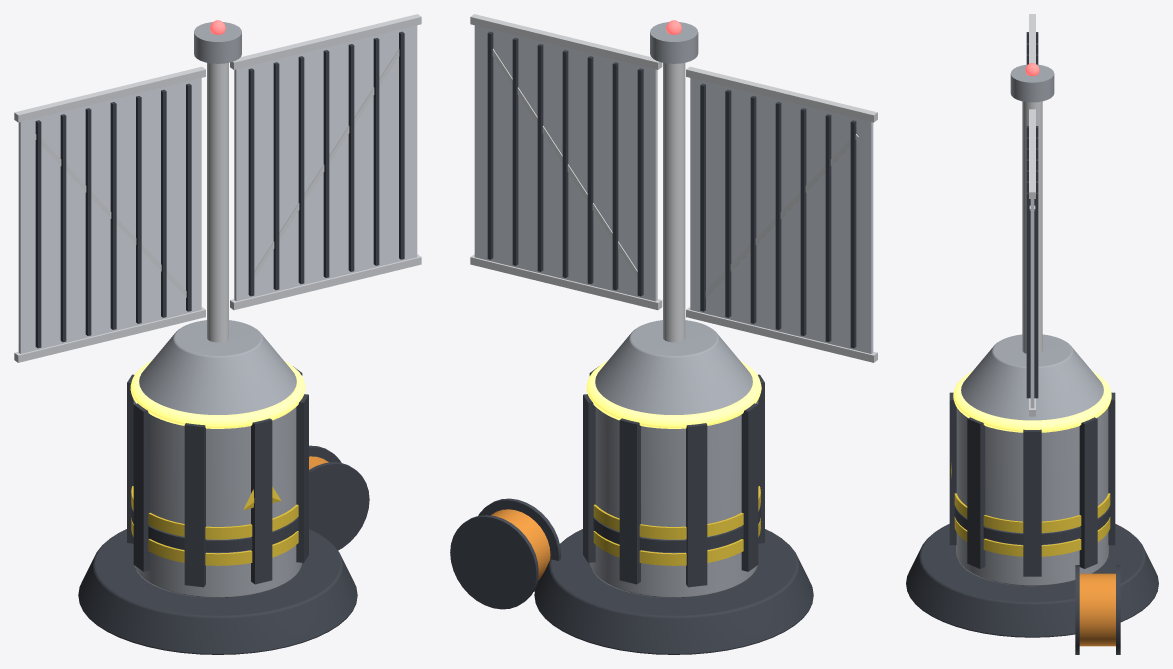
The model's file is reactor.glb.
3 views of the same model, side by side, from view 1: azimuth 30°, elevation 25°; view 2: azimuth 150°, elevation 25°; view 3: azimuth 270°, elevation 25° (orthographic). The views are drawn at different scales.
Parts seen in each view (by area): view 1: radiador_izq, radiador_der, base.001, vasija, blindaje_superior, mastil.001, Cylinder.008, Cube.030, Cube.031, nucleo, Cube.029, Cube.048 (+25 smaller); view 2: radiador_izq, radiador_der, base.001, vasija, blindaje_superior, Cylinder.009, mastil.001, Cube.028, Cube.027, nucleo, Cube.029, Cube.048 (+27 smaller); view 3: base.001, vasija, blindaje_superior, Cube.025, carrete, Cube.026, Cube.032, mastil.001, nucleo, Cylinder.007, Cylinder.006, Cylinder.005 (+9 smaller).
Boxes of the visible parts, left/top/right/bottom form: radiador_izq: left=18, top=78, right=201, bottom=353; radiador_der: left=234, top=25, right=417, bottom=301; base.001: left=78, top=529, right=357, bottom=654; vasija: left=133, top=400, right=301, bottom=597; blindaje_superior: left=139, top=320, right=296, bottom=414; mastil.001: left=207, top=63, right=228, bottom=342; Cylinder.008: left=309, top=462, right=369, bottom=550; Cube.030: left=184, top=423, right=205, bottom=587; Cube.031: left=251, top=418, right=272, bottom=584; nucleo: left=130, top=360, right=305, bottom=428; Cube.029: left=133, top=403, right=150, bottom=571; Cube.048: left=14, top=66, right=205, bottom=122; radiador_izq: left=690, top=78, right=873, bottom=353; radiador_der: left=474, top=25, right=657, bottom=301; base.001: left=534, top=529, right=813, bottom=654; vasija: left=590, top=400, right=758, bottom=597; blindaje_superior: left=595, top=320, right=752, bottom=414; Cylinder.009: left=450, top=515, right=538, bottom=609; mastil.001: left=663, top=63, right=685, bottom=342; Cube.028: left=686, top=423, right=707, bottom=587; Cube.027: left=619, top=418, right=640, bottom=584; nucleo: left=586, top=360, right=761, bottom=428; Cube.029: left=741, top=403, right=758, bottom=571; Cube.048: left=686, top=66, right=877, bottom=122; base.001: left=906, top=524, right=1158, bottom=637; vasija: left=956, top=407, right=1108, bottom=586; blindaje_superior: left=961, top=334, right=1103, bottom=420; Cube.025: left=1023, top=429, right=1041, bottom=576; carrete: left=1079, top=573, right=1115, bottom=646; Cube.026: left=1079, top=417, right=1097, bottom=568; Cube.032: left=967, top=417, right=985, bottom=568; mastil.001: left=1022, top=101, right=1042, bottom=353; nucleo: left=953, top=371, right=1111, bottom=432; Cylinder.007: left=1010, top=64, right=1054, bottom=102; Cylinder.006: left=954, top=493, right=1110, bottom=532; Cylinder.005: left=954, top=505, right=1110, bottom=544.
Size of the model in its own units: 5.8 by 8.02 by 3.48.
